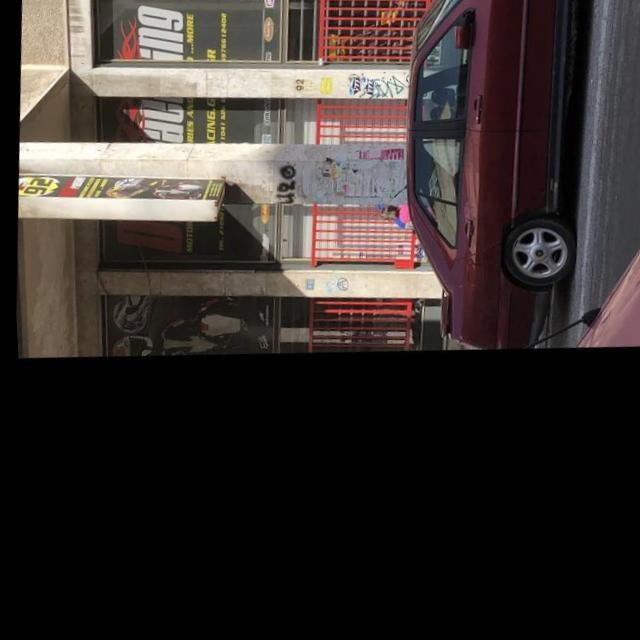-: (344, 74, 412, 108), (272, 166, 297, 210)
